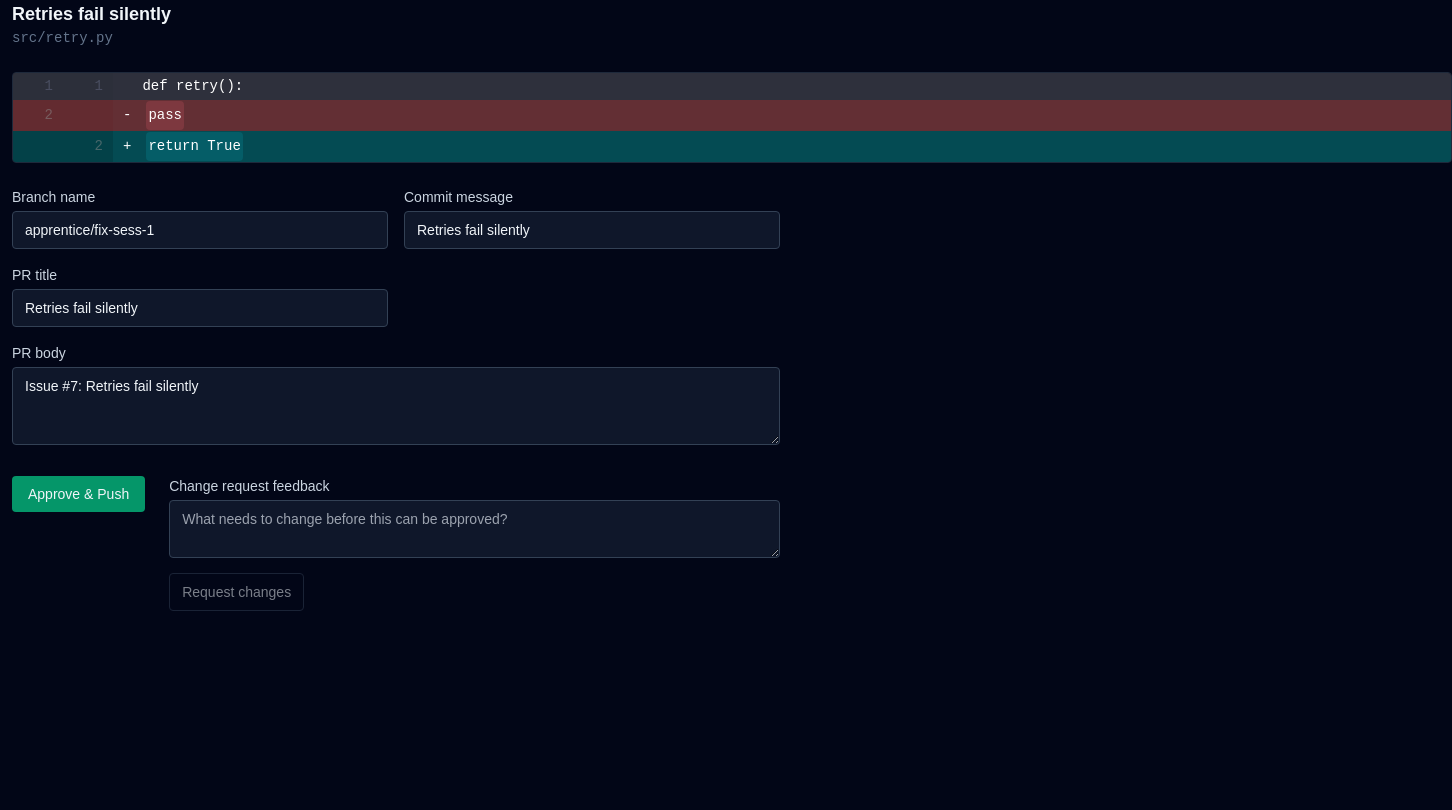
Test: PrReviewView › shows a readable error message when approval fails
Click the button "Approve & Push" at [79, 494], box [12,476,145,512]
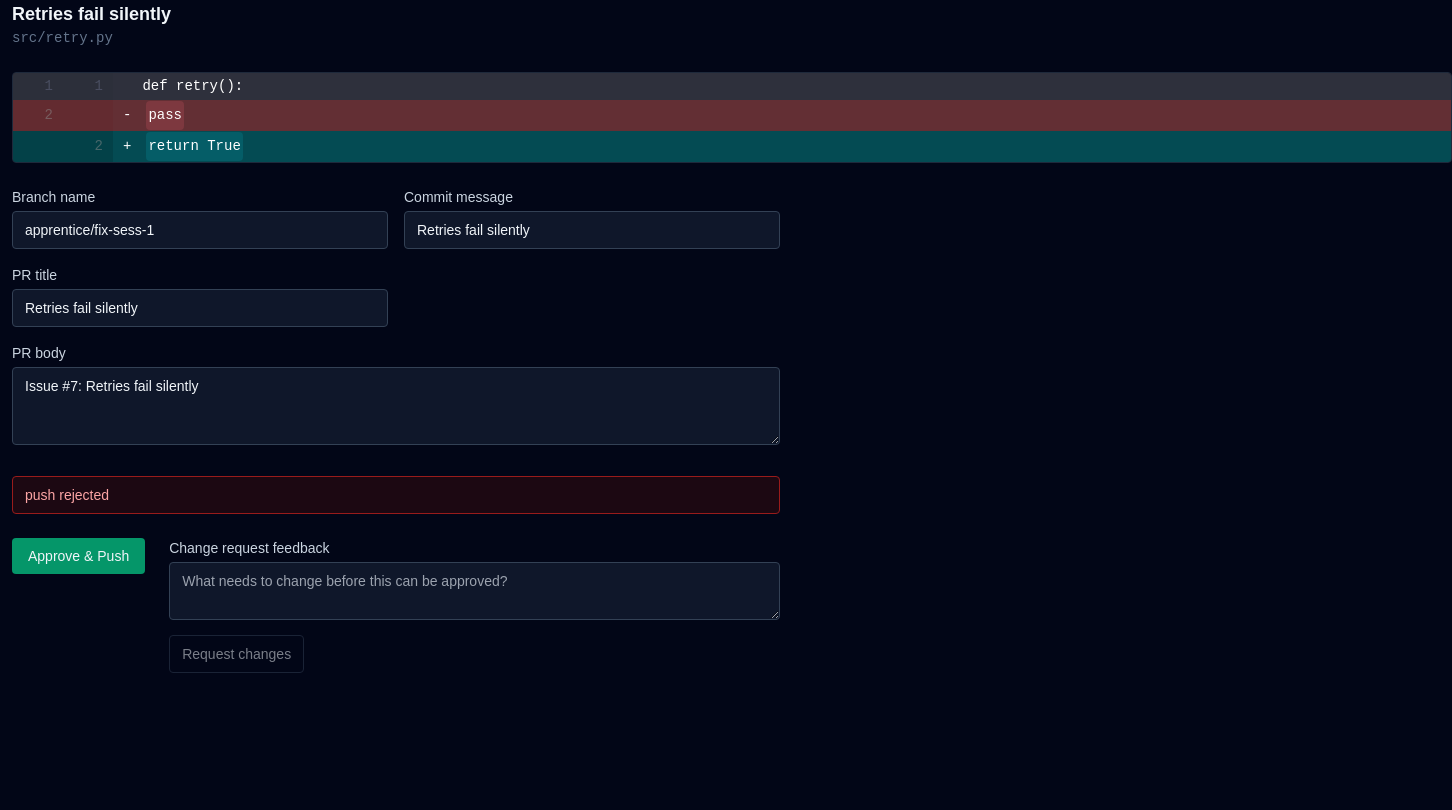
Result: the message reads "push rejected" at [25,487,109,503]
